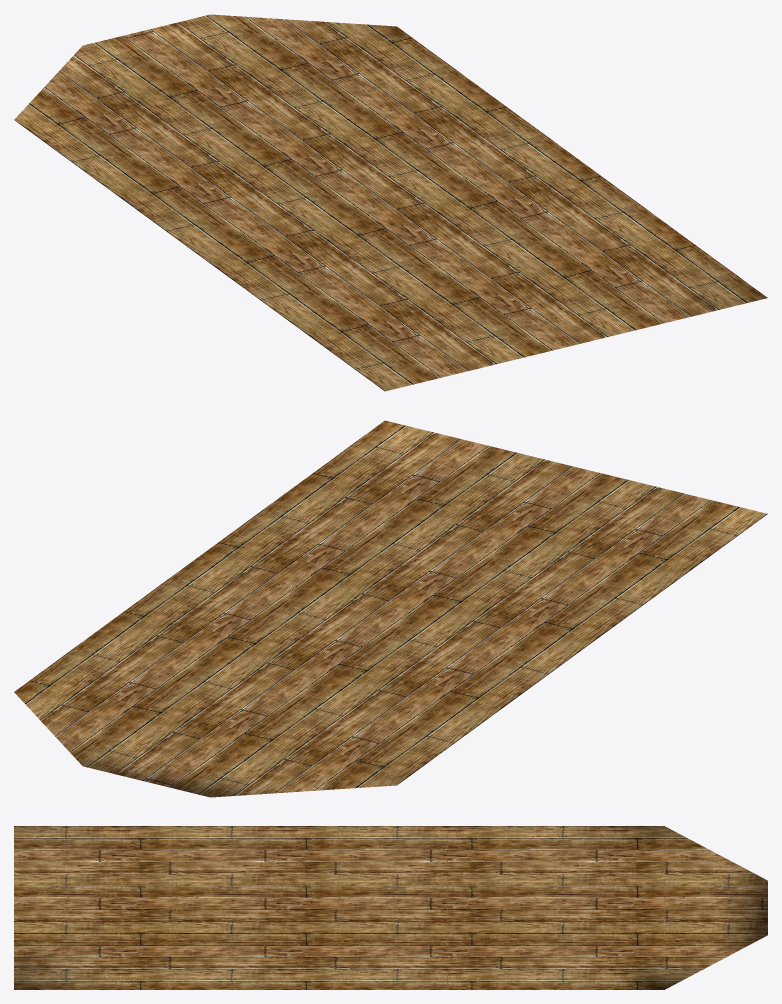
File: LAKETOWN_PUB_PS_PUB_FLOOR83837.obj
3 renders of one model, top to bottom at view 1: azimuth 30°, elevation 25°; view 2: azimuth 150°, elevation 25°; view 3: azimuth 270°, elevation 25°, orthographic. The views are drawn at different scales.
Visible parts, largest first — view 1: Pub_Floor83837; view 2: Pub_Floor83837; view 3: Pub_Floor83837.
Part boxes in pixels (bbox=[...]): Pub_Floor83837: bbox=[14, 14, 767, 391]; Pub_Floor83837: bbox=[14, 420, 767, 797]; Pub_Floor83837: bbox=[14, 826, 767, 989].
Bounding box in the file's own units: 512 × 0 × 995.
